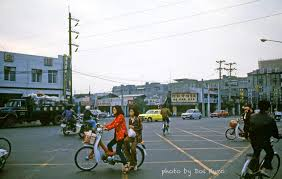people: (248, 101, 280, 169), (127, 106, 143, 169), (110, 105, 126, 166), (63, 105, 75, 129), (242, 102, 251, 130), (160, 103, 169, 130)
